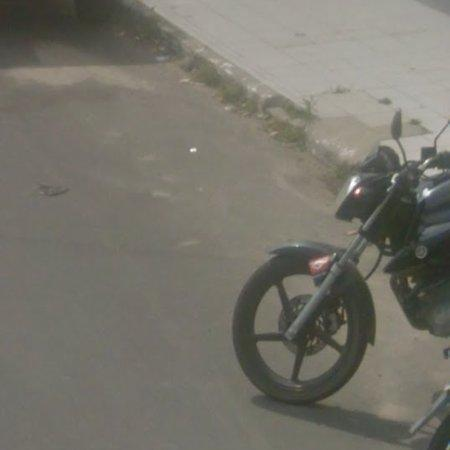motorcycles: (234, 110, 450, 405)
